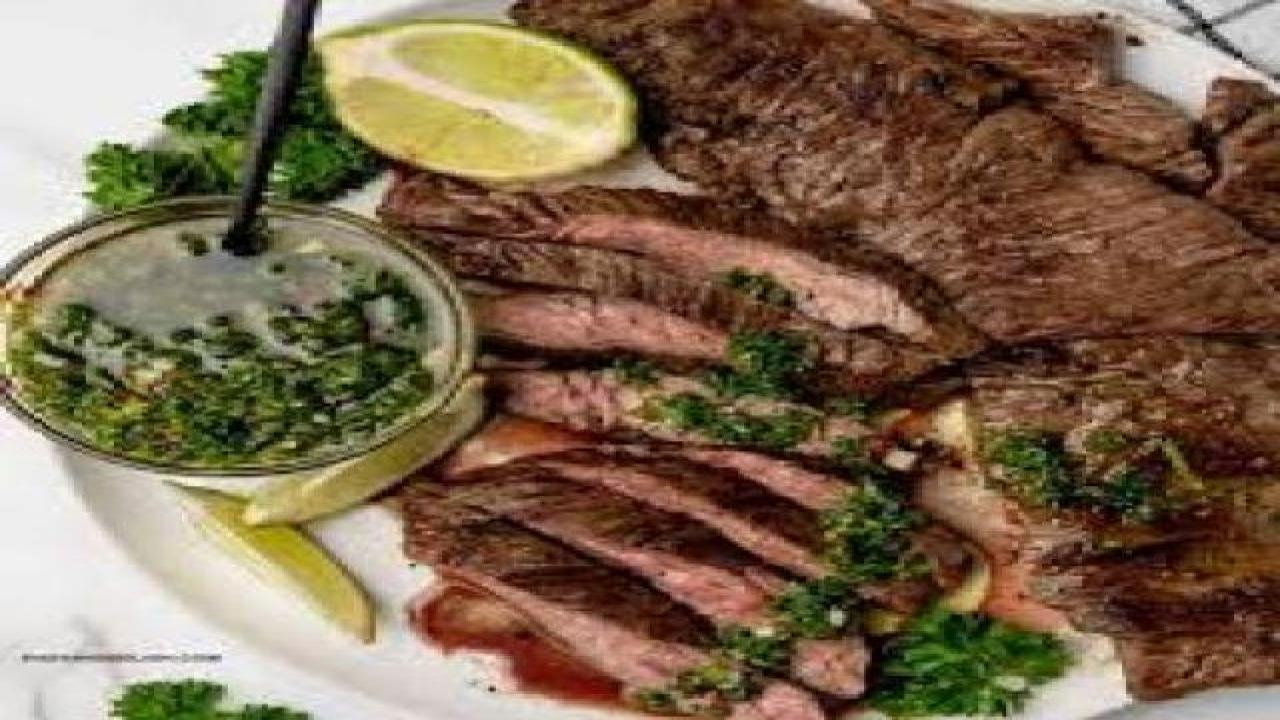done: (531, 7, 1250, 623), (429, 174, 960, 686)
